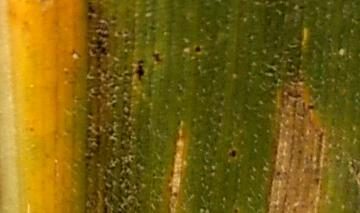tarspot: (136, 59, 145, 82), (152, 53, 162, 65), (230, 148, 237, 158), (194, 45, 201, 53), (276, 171, 281, 177)
